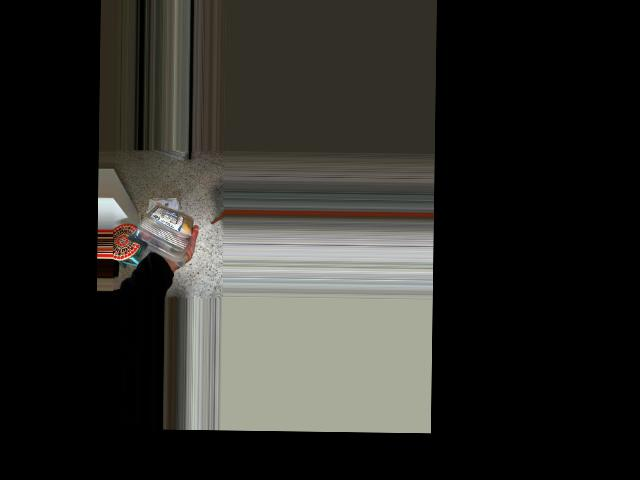cheese: (124, 192, 192, 267)
